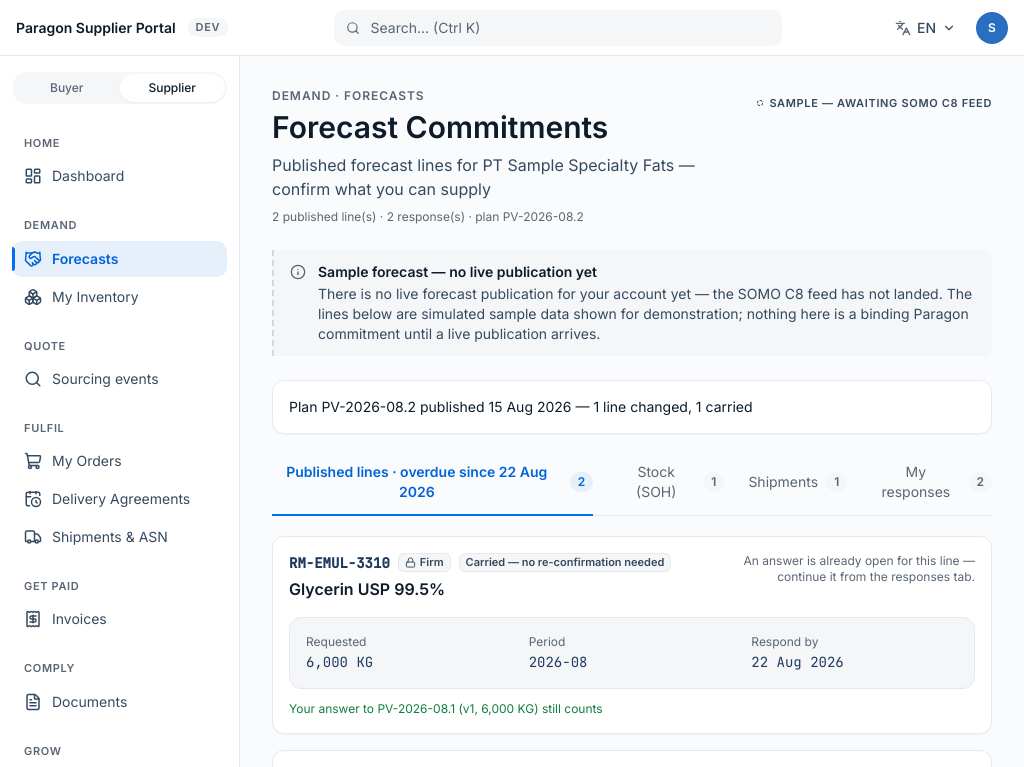
Test: R1b — the buyer’s words reach the supplier who did not write them › ⚠️ A RESOLVED DISPUTE SHOWS BOTH — the raise is not erased by its answer
The width and height of the screenshot is (1024, 767).
Click the text "My responses": (916, 481) 882,463 -> 950,500
(page scrolled)
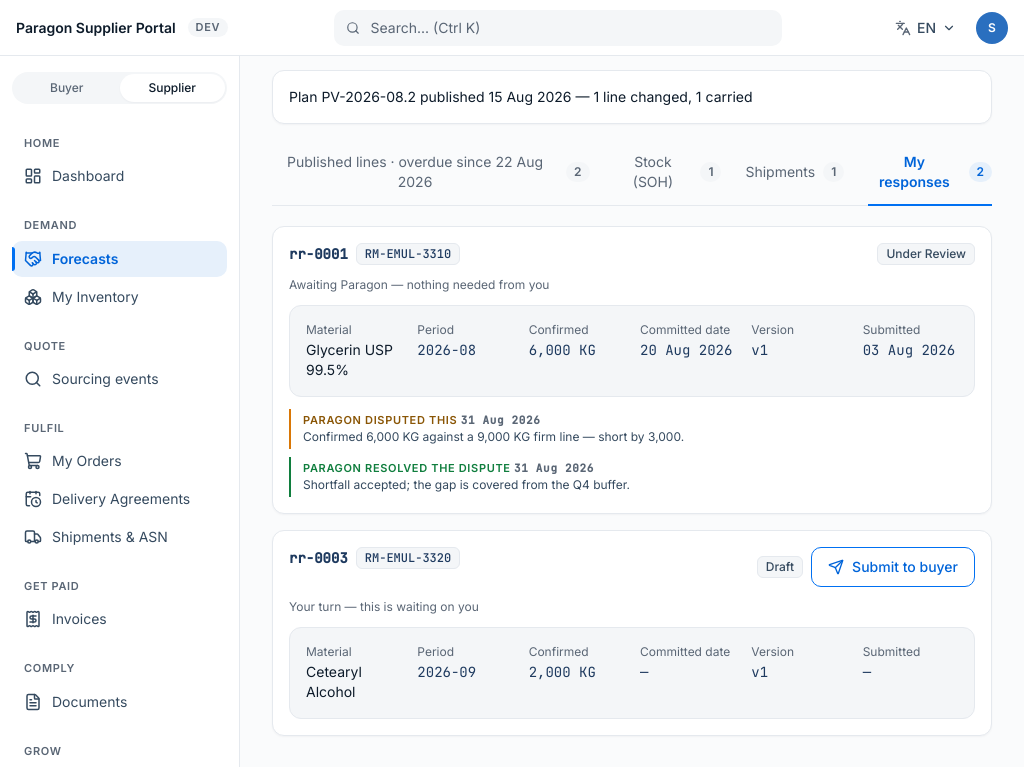
expect the element with test id "sdcsup-dispute-ledger" shows "Confirmed 6,000 KG against a 9,000 KG firm line — short by 3,000.": met, box 303,429 -> 684,444
expect the element with test id "sdcsup-dispute-ledger" shows "Shortfall accepted; the gap is covered from the Q4 buffer.": met, box 303,477 -> 630,492
expect the element with test id "sdcsup-dispute-ledger" shows "Paragon resolved the dispute": met, box 303,461 -> 511,475
